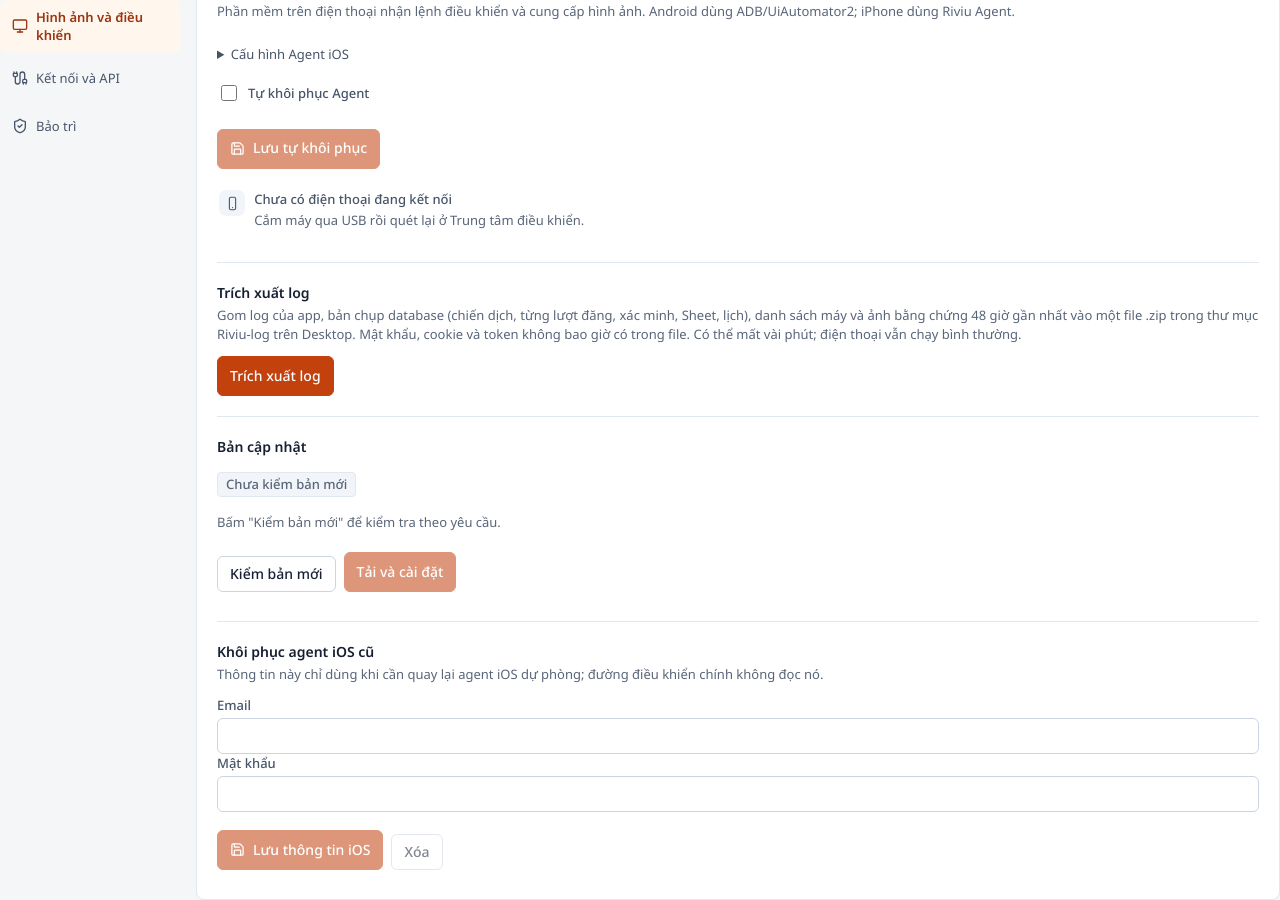
Test case: SettingsPanel update section › refuses the install while a session is running, and names it
(page scrolled)
Click the button "Kiểm bản mới": click(276, 574) top-left (217, 556), bottom-right (336, 592)
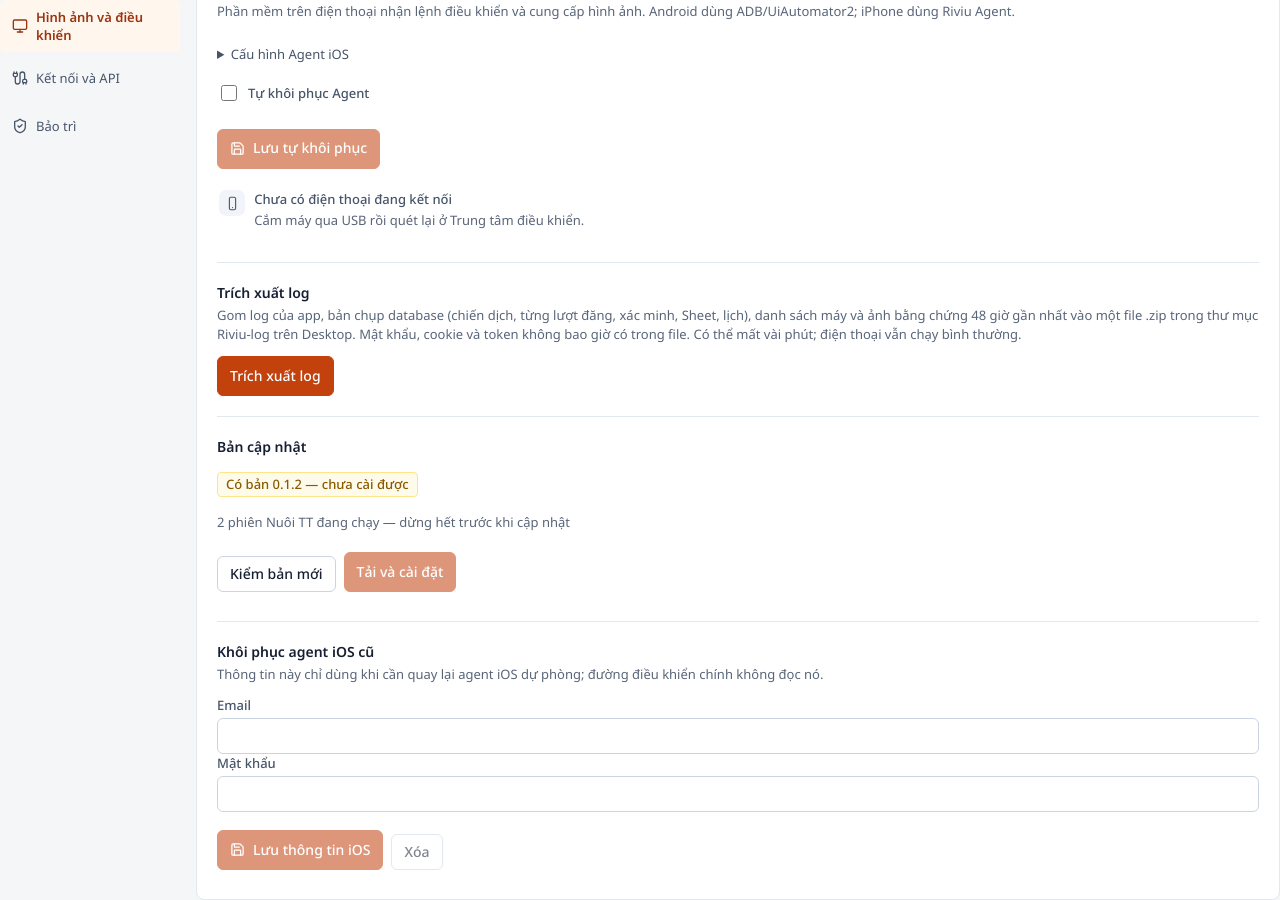
Expected: the button "Tải và cài đặt" is disabled, top-left (344, 552), bottom-right (456, 592)
Now the text "2 phiên Nuôi TT đang chạy — dừng hết trước khi cập nhật" is shown, box top-left (217, 513), bottom-right (570, 531)
